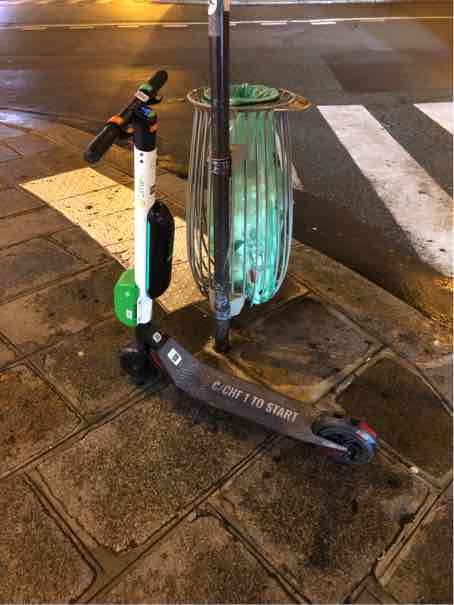scooter: (60, 60, 413, 479)
